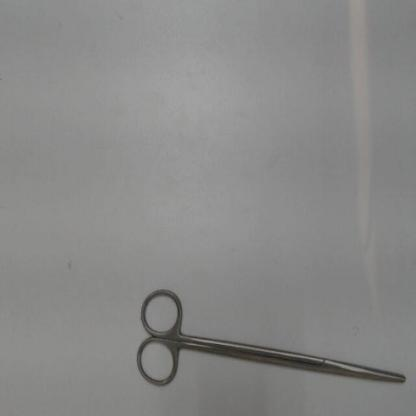9 Metzenbaum Scissors: (133, 285, 409, 393)
